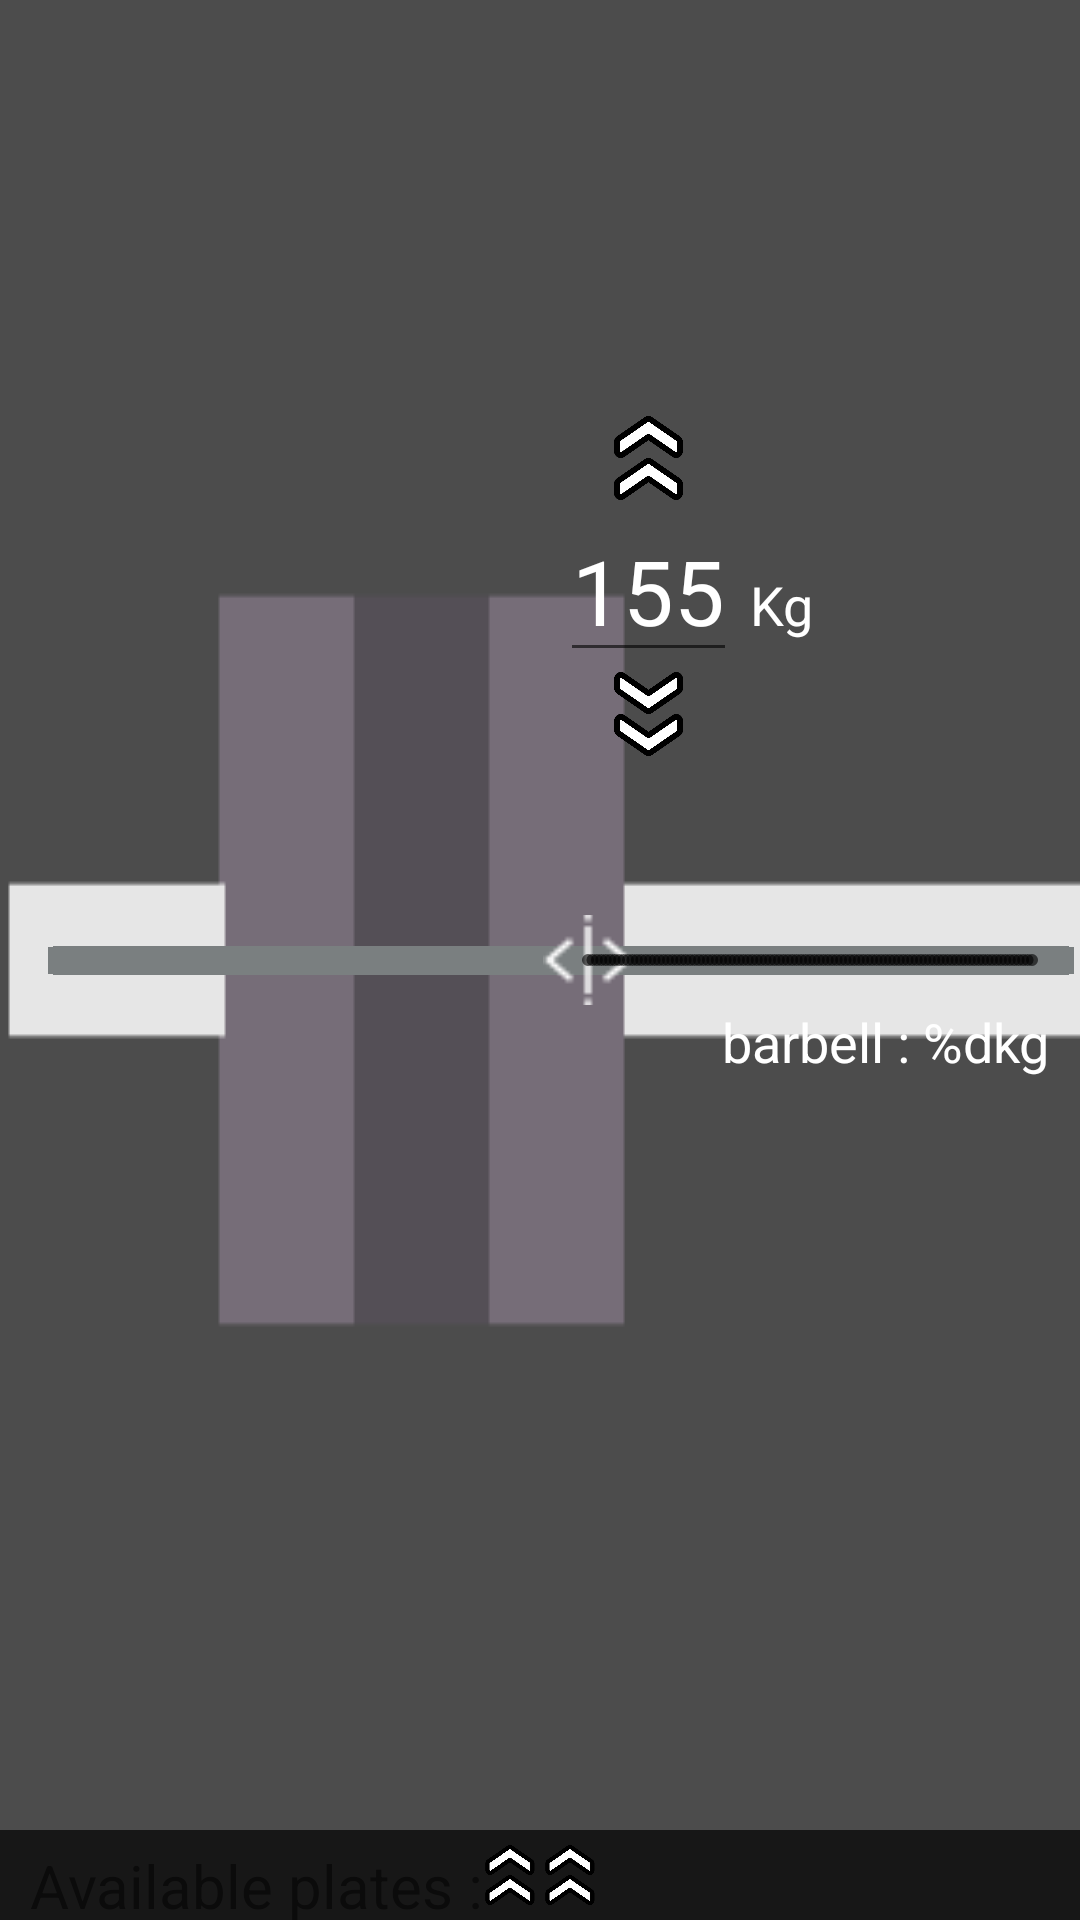

Locate icon controls on the screen. Image size 1080x1920, boxes as (x1, y1, x2, y2).
arrow up: (614, 416, 683, 500), (489, 1849, 530, 1901), (549, 1849, 590, 1901)
